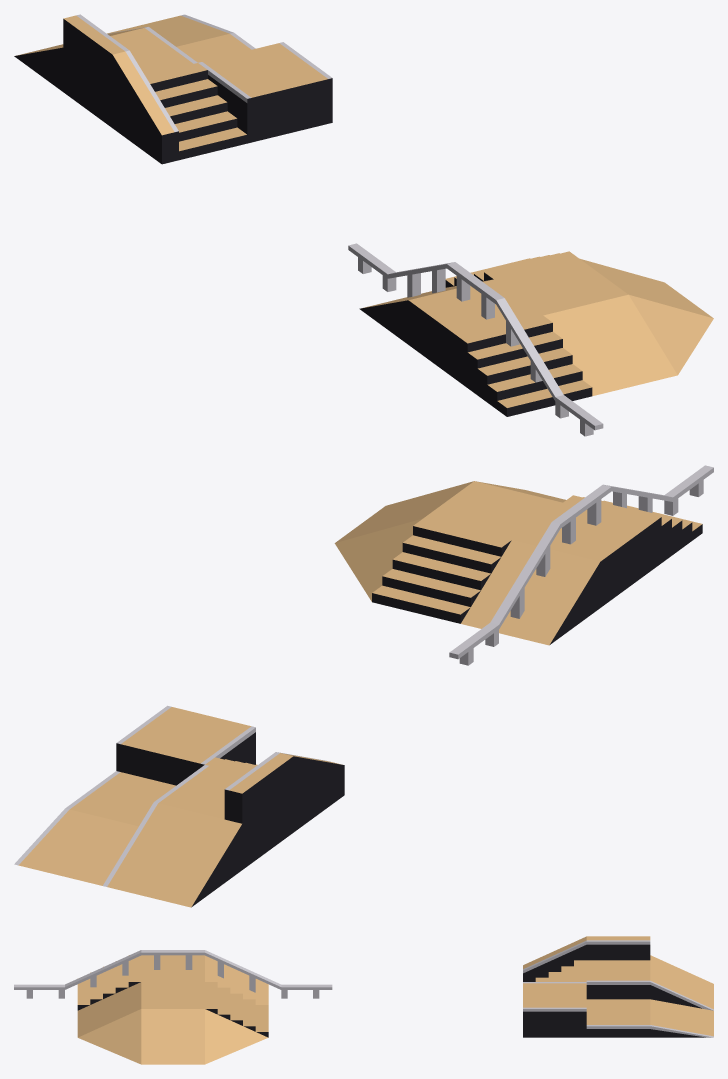
3 renders of one model, top to bottom at view 1: azimuth 30°, elevation 25°; view 2: azimuth 150°, elevation 25°; view 3: azimuth 270°, elevation 25°, orthographic. The views are drawn at different scales.
Parts seen in each view (by area): view 1: Ledge_Stairs_SML_L2, Rail_StairsShort4, Ramp_63, Ledge_Block_SML_G2, Rail_Block_Short2, ManPad_Half_5_OneGrind2, FlatBlock_377, ManPad_Half_5_OneGrind1, Pyramid_41, Rail_Ramp_Short2, Ramp_62, Ramp_Half_2_Left1 (+5 smaller); view 2: Rail_Ramp_Short2, Stairs_Full16, Ledge_Block_SML_G2, Rail_Block_Short2, Ramp_Half_18, FlatBlock_377, Ramp_Half_5_Left1, ManPad_Half_5_OneGrind2, ManPad_Half_5_OneGrind1, Ledge_Stairs_SML_L2, ManPad_7, Rail_StairsShort4 (+6 smaller); view 3: Ledge_Block_SML_G2, Ramp_62, ManPad_Half_5_OneGrind1, ManPad_7, Rail_StairsShort4, Rail_Block_Short2, Ledge_Stairs_SML_L2, Stairs_Full16, Rail_Ramp_Short2, Pyramid_41, Pyramid_40, Ramp_63 (+8 smaller).
Part boxes in pixels (box(x1,y1,x2,y2)): Ledge_Stairs_SML_L2: box(112, 50, 247, 164); Rail_StairsShort4: box(457, 298, 592, 416); Ramp_63: box(543, 294, 677, 396); Ledge_Block_SML_G2: box(63, 14, 197, 127); Rail_Block_Short2: box(408, 262, 542, 380); ManPad_Half_5_OneGrind2: box(198, 52, 289, 143); FlatBlock_377: box(494, 258, 627, 315); ManPad_Half_5_OneGrind1: box(241, 42, 332, 132); Pyramid_41: box(629, 295, 713, 374); Rail_Ramp_Short2: box(359, 262, 491, 344); Ramp_62: box(580, 259, 713, 318); Ramp_Half_2_Left1: box(142, 14, 233, 42); Rail_Ramp_Short2: box(461, 522, 600, 645); Stairs_Full16: box(372, 518, 511, 623); Ledge_Block_SML_G2: box(154, 752, 293, 869); Rail_Block_Short2: box(512, 484, 651, 607); Ramp_Half_18: box(147, 813, 242, 907); FlatBlock_377: box(423, 481, 562, 539); Ramp_Half_5_Left1: box(103, 802, 197, 896); ManPad_Half_5_OneGrind2: box(160, 716, 255, 785); ManPad_Half_5_OneGrind1: box(116, 705, 211, 781); Ledge_Stairs_SML_L2: box(205, 752, 344, 832); ManPad_7: box(65, 771, 175, 826); Rail_StairsShort4: box(563, 485, 702, 569); Ledge_Block_SML_G2: box(586, 936, 650, 999); Ramp_62: box(141, 1009, 204, 1064); ManPad_Half_5_OneGrind1: box(523, 995, 586, 1037); ManPad_7: box(586, 999, 650, 1037); Rail_StairsShort4: box(77, 950, 141, 1010); Rail_Block_Short2: box(141, 950, 204, 981); Ledge_Stairs_SML_L2: box(523, 936, 586, 981); Stairs_Full16: box(205, 982, 268, 1037); Rail_Ramp_Short2: box(205, 950, 268, 1004); Pyramid_41: box(78, 1009, 141, 1064); Pyramid_40: box(205, 1009, 267, 1064); Ramp_63: box(77, 982, 141, 1037).
Size of the model in its own units: 0.3 by 0.0825 by 1.1.
